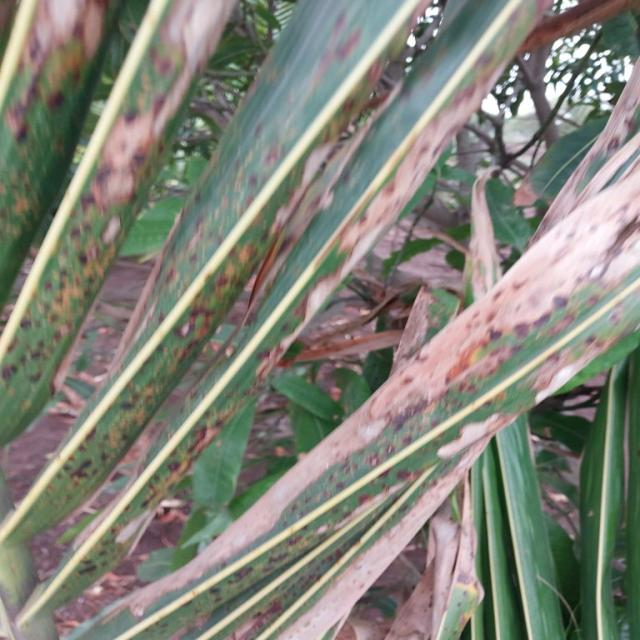gray leaf spot: (74, 65, 639, 639), (243, 1, 549, 342), (0, 0, 118, 218)
